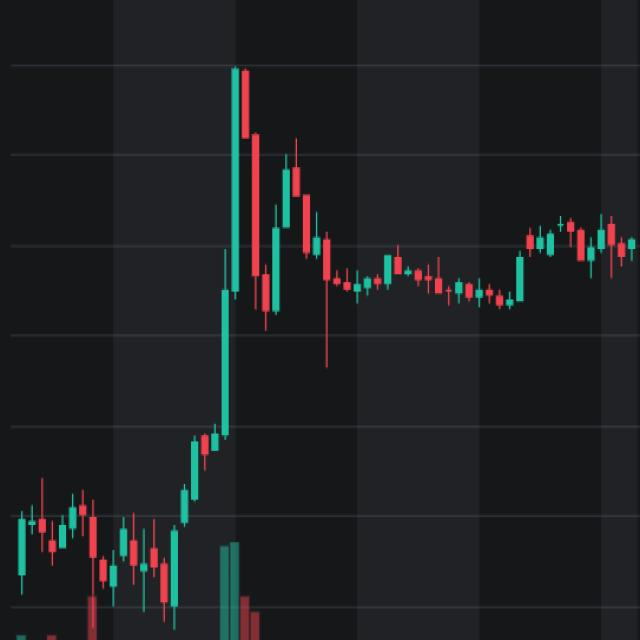Resistance-Emerging: (274, 146, 640, 340)
Support-breakout: (12, 59, 246, 624)
